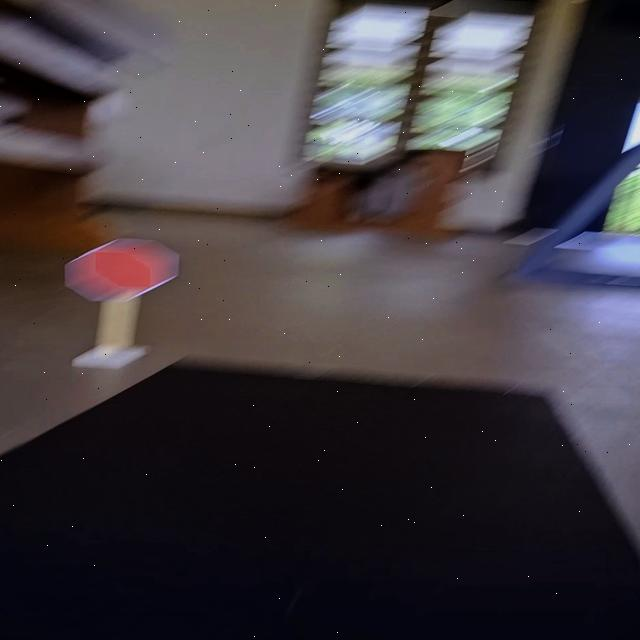Stop: (56, 234, 188, 304)
